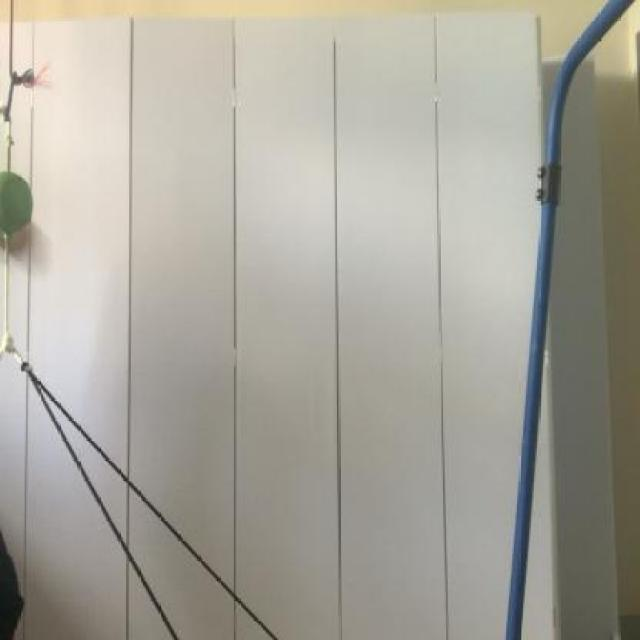baseball: (0, 168, 40, 246)
